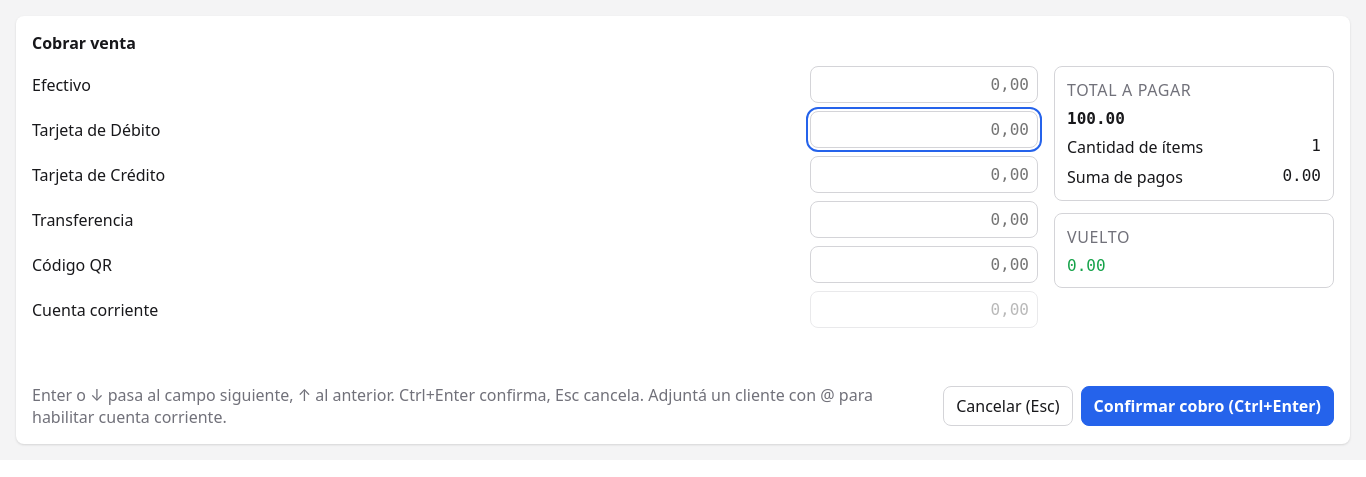
Test case: CheckoutScreen › un error selecciona el campo donde estaba el foco, no siempre Efectivo
In the field labelled "Tarjeta de Débito": (924, 130) [810,111,1038,148], type "300"
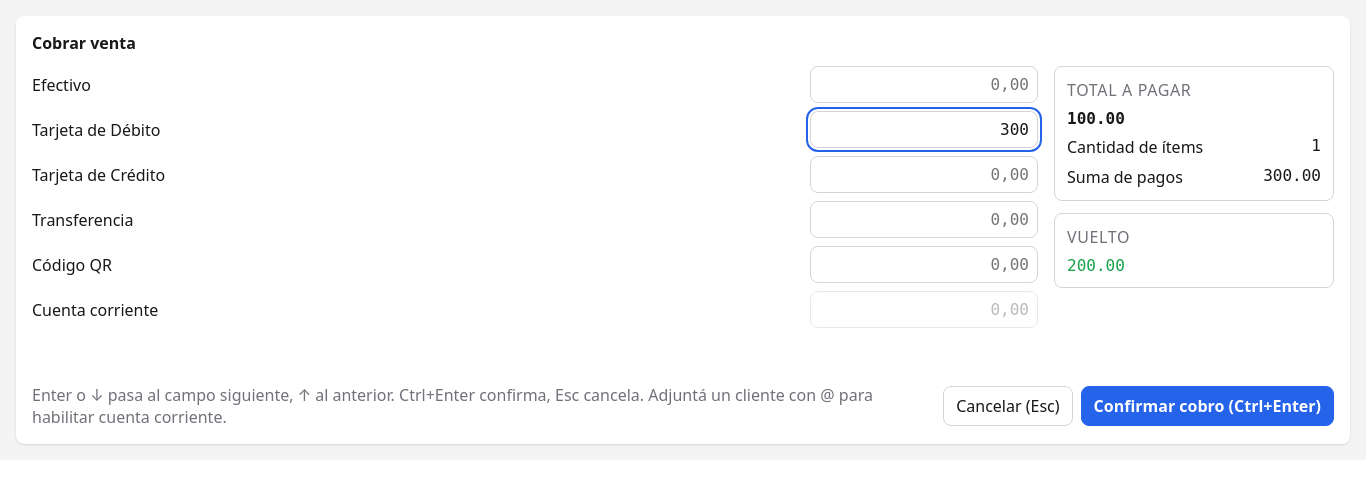
Press Enter in the field labelled "Tarjeta de Débito", box [810,111,1038,148]
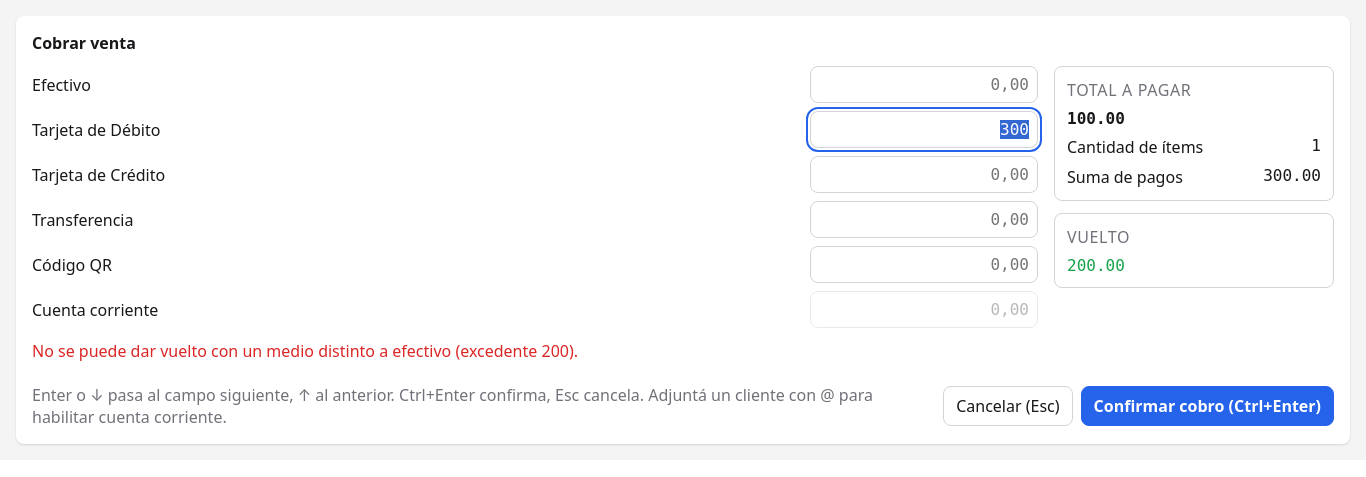
Now the message "No se puede dar vuelto con un medio distinto a efectivo (excedente 200)." is shown, box [32,340,578,362]
